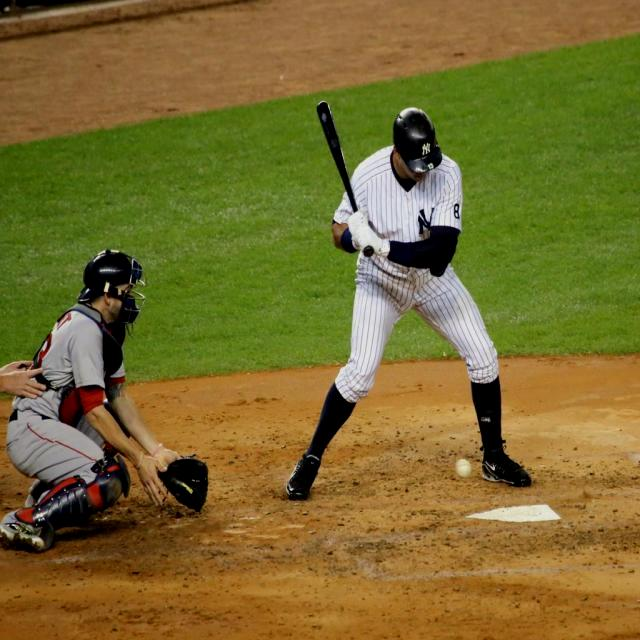ball: (454, 457, 472, 479)
bat: (315, 100, 359, 212)
